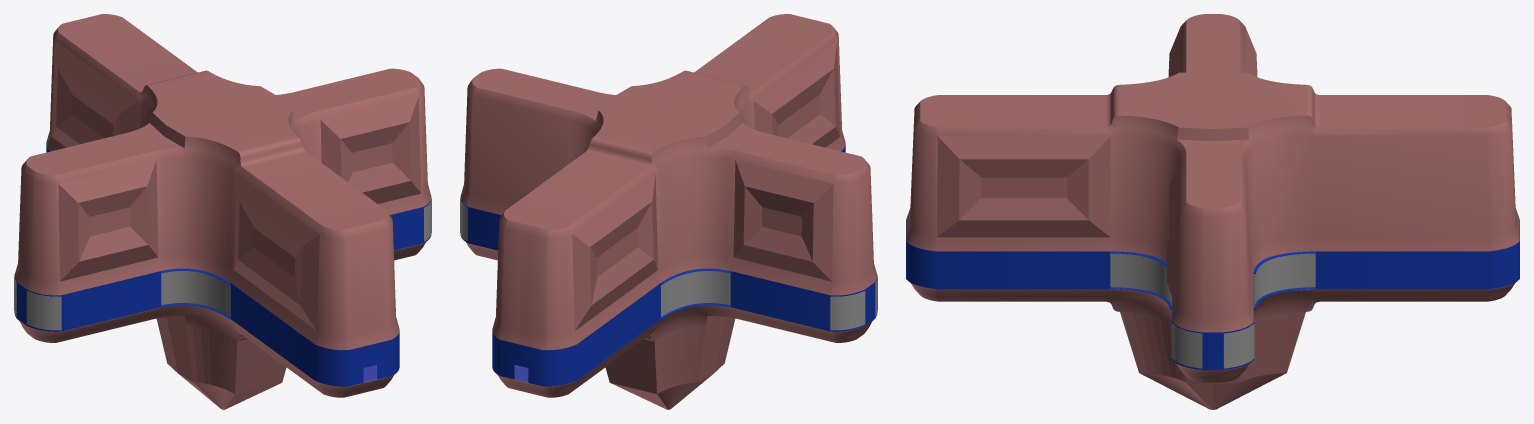
File: SS Module 11.FBX
3 views of the same model, side by side, from view 1: azimuth 30°, elevation 25°; view 2: azimuth 150°, elevation 25°; view 3: azimuth 270°, elevation 25° (orthographic). The views are drawn at different scales.
Visible parts, largest first — view 1: Plane070; view 2: Plane070; view 3: Plane070.
Part boxes in pixels (x1,y1,x2,y2): Plane070: (14,14,431,409); Plane070: (460,14,877,409); Plane070: (906,14,1519,409).
Bounding box in the file's own units: 115 × 81.26 × 146.
